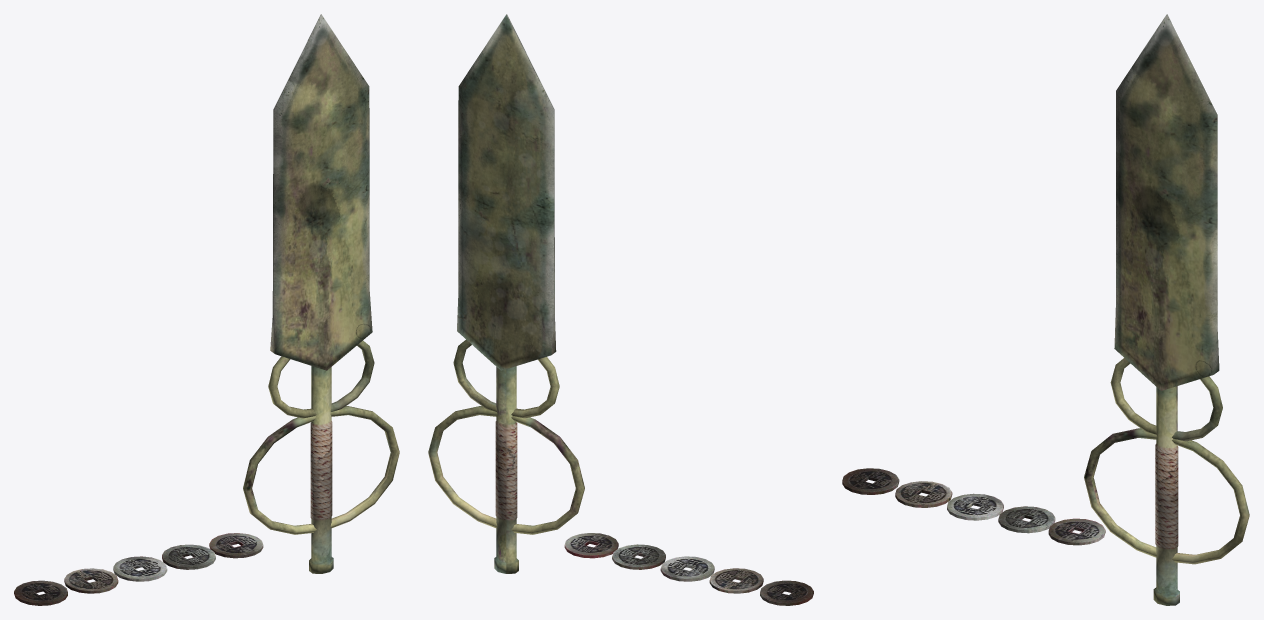
Rendered from bell_sword.gltf.
3 views of the same model, side by side, from view 1: azimuth 30°, elevation 25°; view 2: azimuth 150°, elevation 25°; view 3: azimuth 330°, elevation 25° (orthographic). The views are drawn at different scales.
Parts seen in each view (by area): view 1: bell_sword, coin_4, coin_2, coin_3, coin_1, coin_5; view 2: bell_sword, coin_4, coin_2, coin_3, coin_5, coin_1; view 3: bell_sword, coin_1, coin_5, coin_4, coin_2, coin_3.
Part boxes in pixels (x1,y1,x2,y2): bell_sword: [243, 14, 399, 573]; coin_4: [64, 568, 118, 593]; coin_2: [162, 544, 215, 569]; coin_3: [113, 556, 167, 581]; coin_1: [209, 533, 263, 558]; coin_5: [14, 580, 67, 605]; bell_sword: [428, 14, 584, 573]; coin_4: [709, 568, 763, 593]; coin_2: [612, 544, 665, 569]; coin_3: [660, 556, 714, 581]; coin_5: [760, 580, 813, 605]; coin_1: [564, 533, 618, 558]; bell_sword: [1084, 14, 1249, 605]; coin_1: [1048, 518, 1105, 545]; coin_5: [842, 468, 899, 494]; coin_4: [895, 481, 952, 507]; coin_2: [998, 506, 1055, 533]; coin_3: [947, 493, 1003, 520].
Bounding box in the file's own units: 0.3757 × 0.5241 × 0.0454.
1 material, 1 textured.
